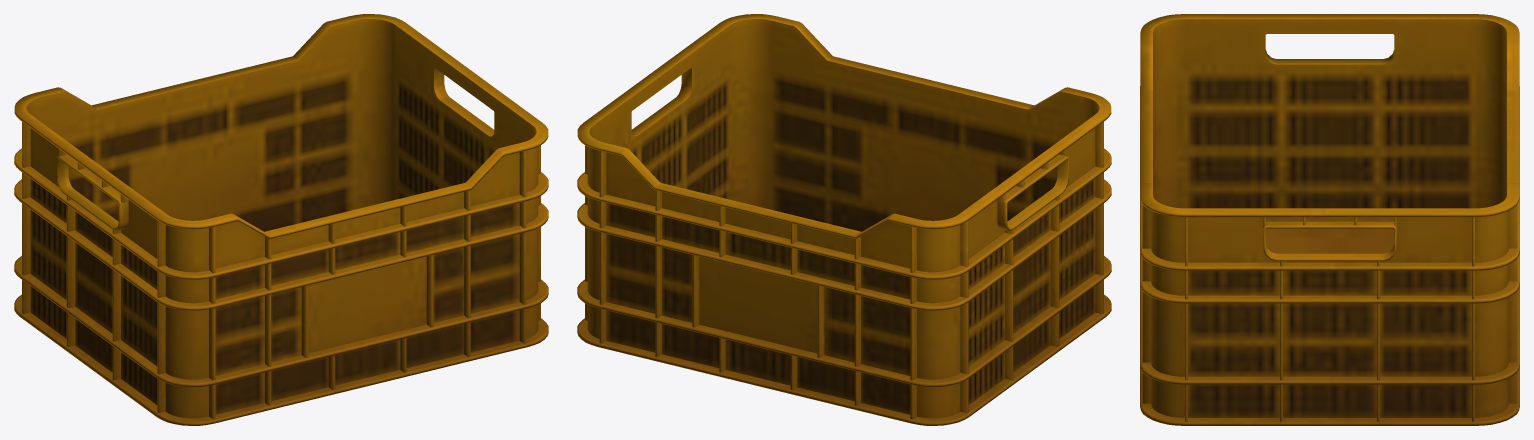
The model's file is crate_plastic_2.glb.
The picture shows the model from 3 angles, left to right: view 1: azimuth 30°, elevation 25°; view 2: azimuth 150°, elevation 25°; view 3: azimuth 270°, elevation 25°; orthographic projection. The views are drawn at different scales.
Visible parts, largest first — view 1: plastic_crate_02; view 2: plastic_crate_02; view 3: plastic_crate_02.
Part boxes in pixels (x1,y1,x2,y2): plastic_crate_02: (14,14,548,425); plastic_crate_02: (577,14,1111,425); plastic_crate_02: (1140,14,1519,425).
Bounding box in the file's own units: 0.5055 × 0.2541 × 0.4055.
Materials: 1 (1 with a texture image).
